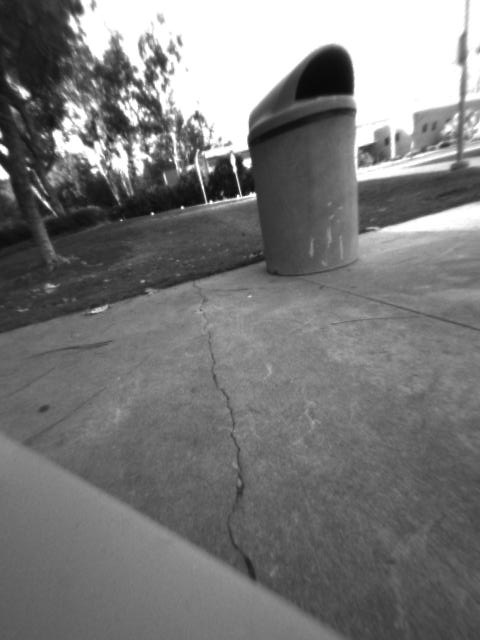trashcan: (245, 40, 370, 281)
